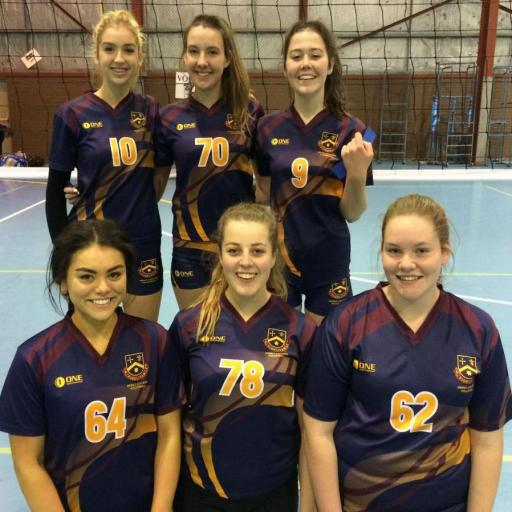person: (304, 195, 511, 511), (0, 220, 183, 511), (170, 203, 315, 511), (46, 11, 163, 320), (256, 21, 372, 322), (158, 15, 263, 309)
